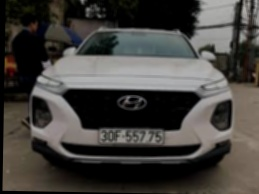Bien-so: (92, 125, 154, 143)
